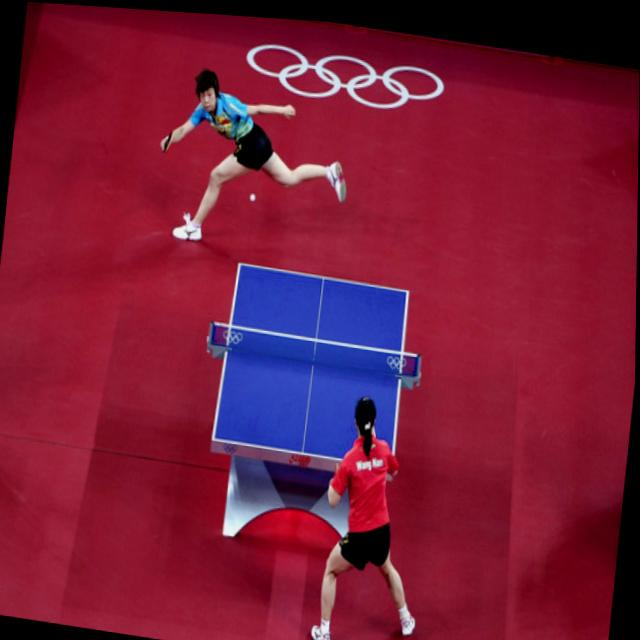TT Net: (205, 319, 421, 388)
TT Racket: (159, 128, 175, 160)
TT Table: (212, 262, 409, 470)
